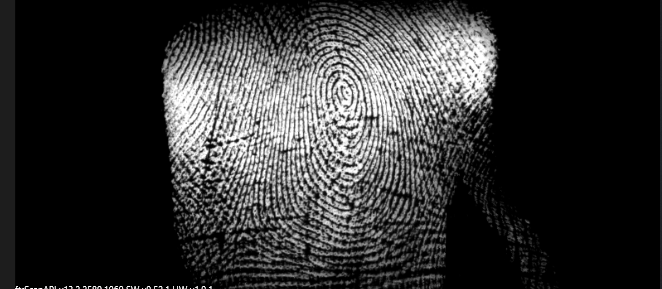deltas: (222, 211, 270, 254), (405, 188, 435, 232)
nucleo: (324, 72, 358, 108)
